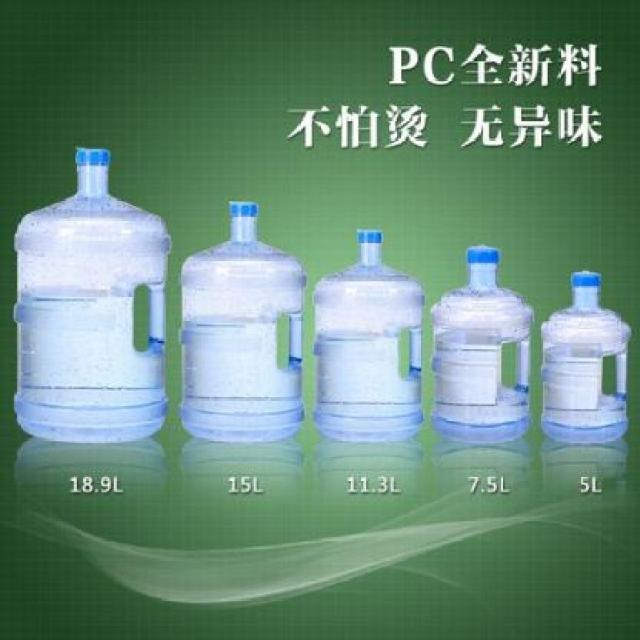coolerbottle: (11, 146, 174, 448), (177, 197, 312, 451), (309, 225, 429, 446), (429, 240, 536, 442), (538, 268, 637, 444)
